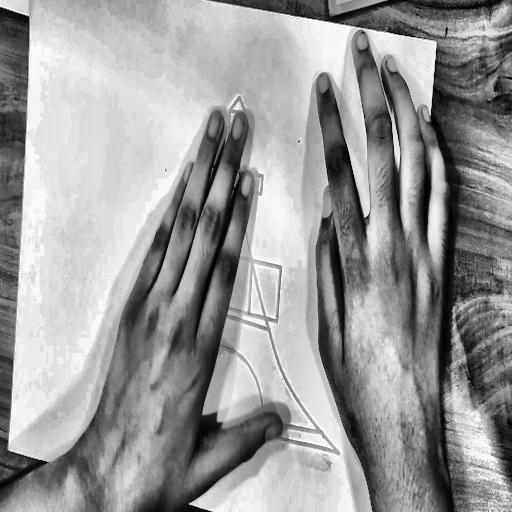bottom_left: (5, 446, 11, 454)
eiffel-tower: (87, 54, 375, 466)
top_right: (432, 36, 439, 49)
